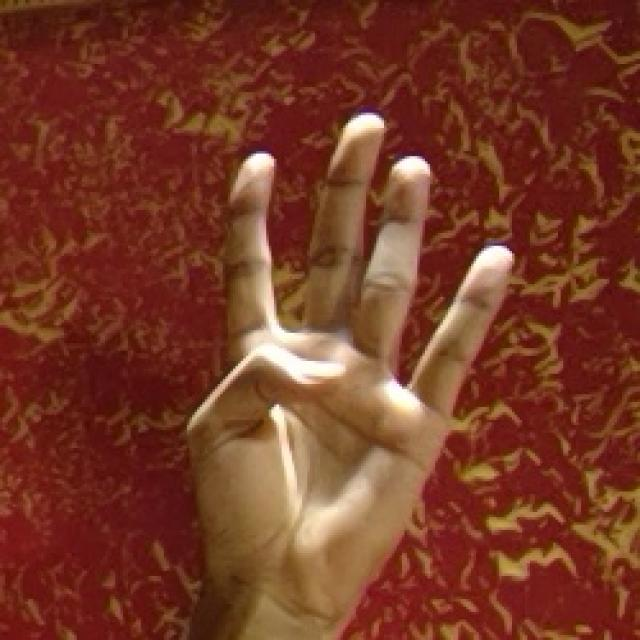Numeric-4: (204, 109, 515, 604)
